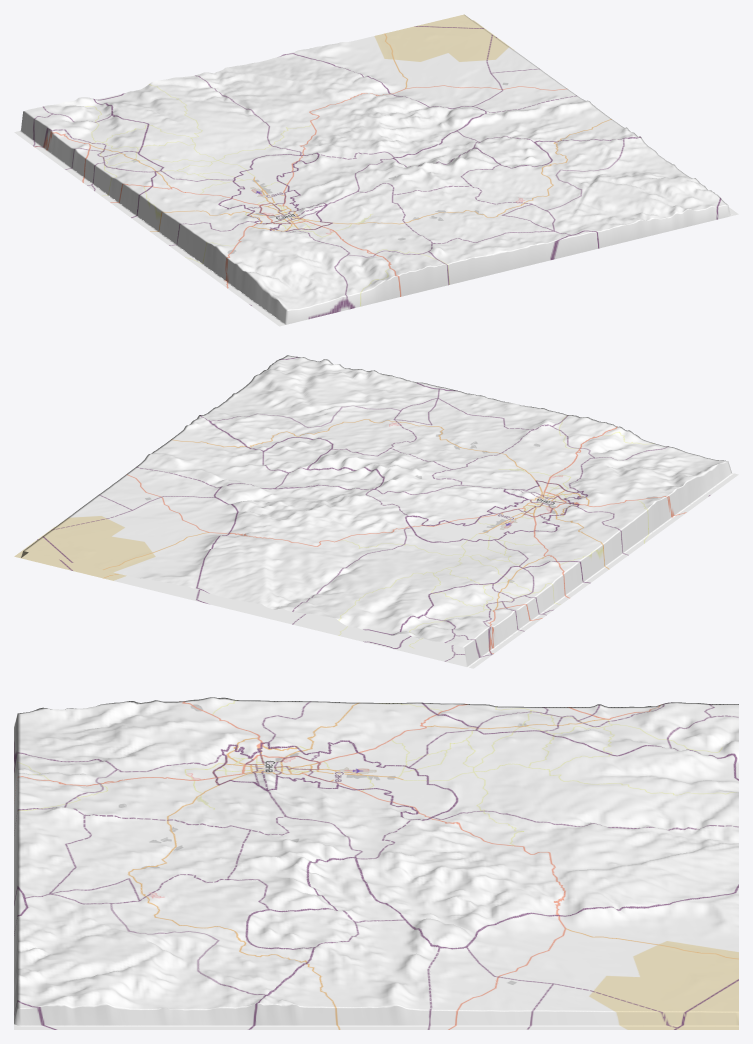
Rendered from mo_qto3settings.gltf.
3 renders of one model, top to bottom at view 1: azimuth 30°, elevation 25°; view 2: azimuth 150°, elevation 25°; view 3: azimuth 270°, elevation 25°, orthographic. The views are drawn at different scales.
Parts seen in each view (by area): view 1: N15E044, Flat Plane; view 2: N15E044, Flat Plane; view 3: N15E044, Flat Plane.
Boxes of the visible parts, box(x1,y1,x2,y2) form: N15E044: box(14, 14, 738, 326); Flat Plane: box(19, 23, 737, 325); N15E044: box(15, 355, 738, 668); Flat Plane: box(14, 474, 736, 666); N15E044: box(14, 697, 738, 1029); Flat Plane: box(14, 725, 738, 1029).
Bounding box in the file's own units: 115555 × 6027 × 115555.
Materials: 2 (2 with a texture image).
